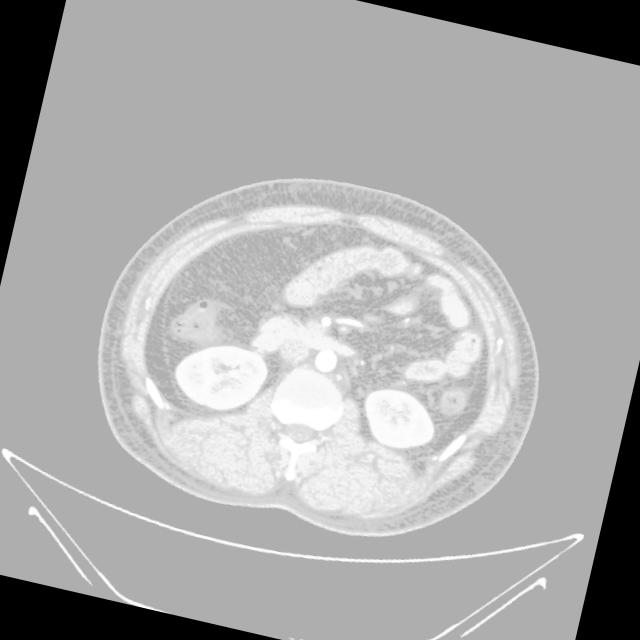NORMAL: (75, 102, 588, 582)
